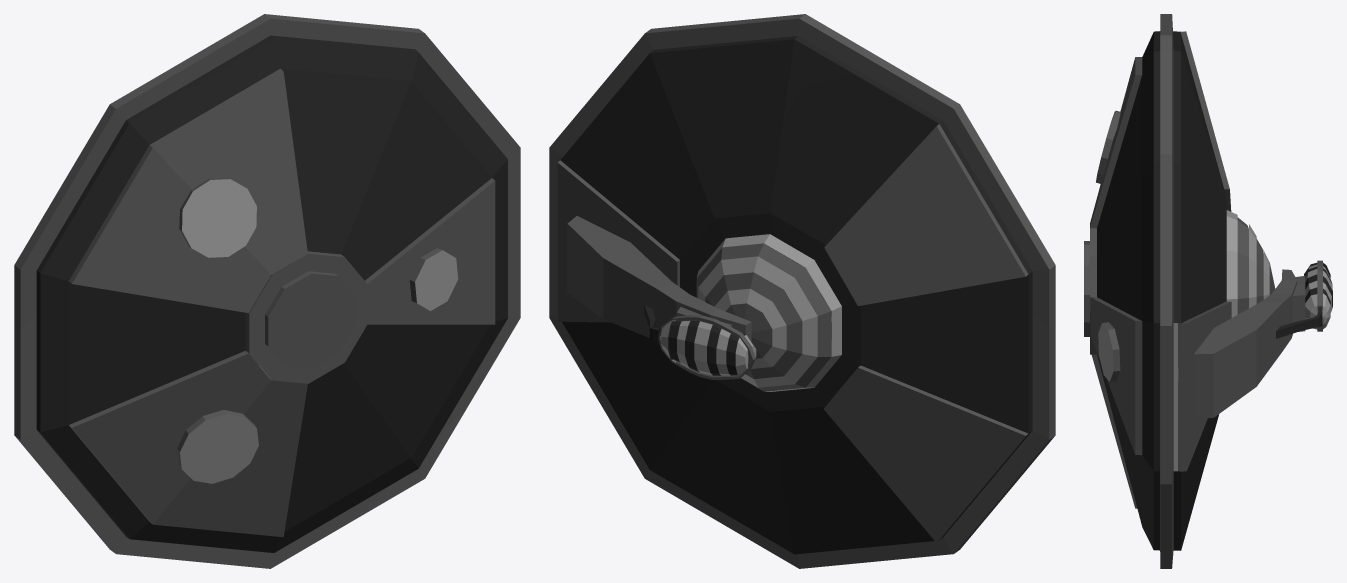
Rendered from UFO3.FBX.
The picture shows the model from 3 angles, left to right: view 1: azimuth 30°, elevation 25°; view 2: azimuth 150°, elevation 25°; view 3: azimuth 270°, elevation 25°; orthographic projection. The views are drawn at different scales.
Visible parts, largest first — view 1: 1, Circle_002_Mesh_004; view 2: 1, Circle_002_Mesh_004; view 3: 1, Circle_002_Mesh_004.
Part boxes in pixels (x1=…): 1: x1=14, y1=14, x2=520, y2=568; Circle_002_Mesh_004: x1=180, y1=179, x2=458, y2=483; 1: x1=549, y1=14, x2=1055, y2=568; Circle_002_Mesh_004: x1=677, y1=234, x2=841, y2=391; 1: x1=1084, y1=14, x2=1332, y2=568; Circle_002_Mesh_004: x1=1098, y1=111, x2=1332, y2=381.
Size of the model in its own units: 162 by 171 by 75.05.
